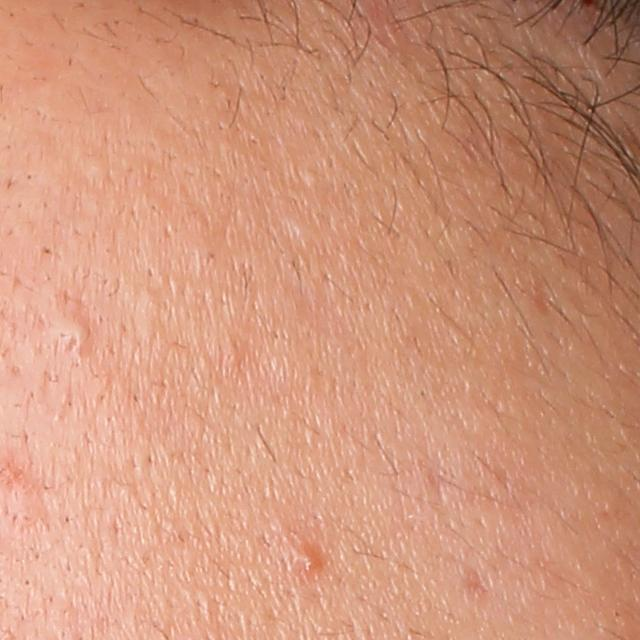comedo: (47, 305, 99, 357)
papule: (287, 539, 323, 578)
